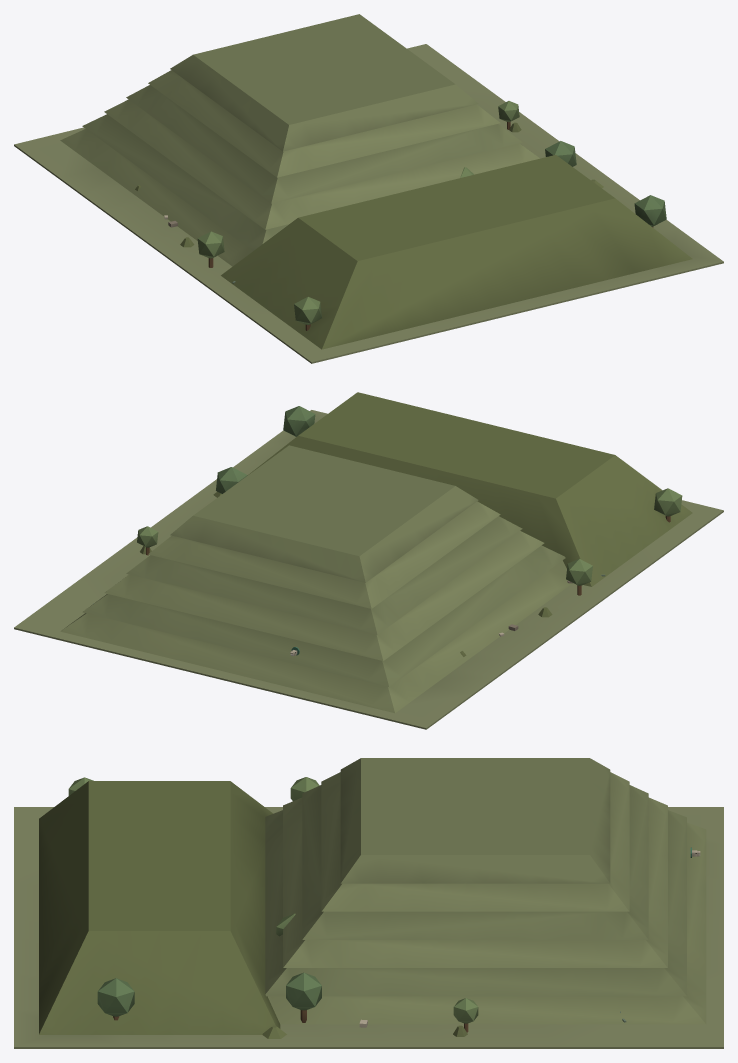
The model's file is temple-of-the-feathered-serpent-1500.glb.
3 views of the same model, one above another, from view 1: azimuth 30°, elevation 25°; view 2: azimuth 150°, elevation 25°; view 3: azimuth 270°, elevation 25° (orthographic). The views are drawn at different scales.
Visible parts, largest first — view 1: p1_pyramid, p0_ground, p2_growth; view 2: p1_pyramid, p0_ground, p2_growth; view 3: p1_pyramid, p0_ground, p2_growth.
Part boxes in pixels (<box>): p1_pyramid: <box>60,14,692,349</box>; p0_ground: <box>14,44,723,363</box>; p2_growth: <box>135,101,666,330</box>; p1_pyramid: <box>60,392,692,713</box>; p0_ground: <box>14,410,723,729</box>; p2_growth: <box>93,406,682,656</box>; p1_pyramid: <box>39,758,706,1034</box>; p0_ground: <box>14,807,723,1048</box>; p2_growth: <box>68,777,700,1038</box>.
Size of the model in its own units: 80 by 19.04 by 100.
